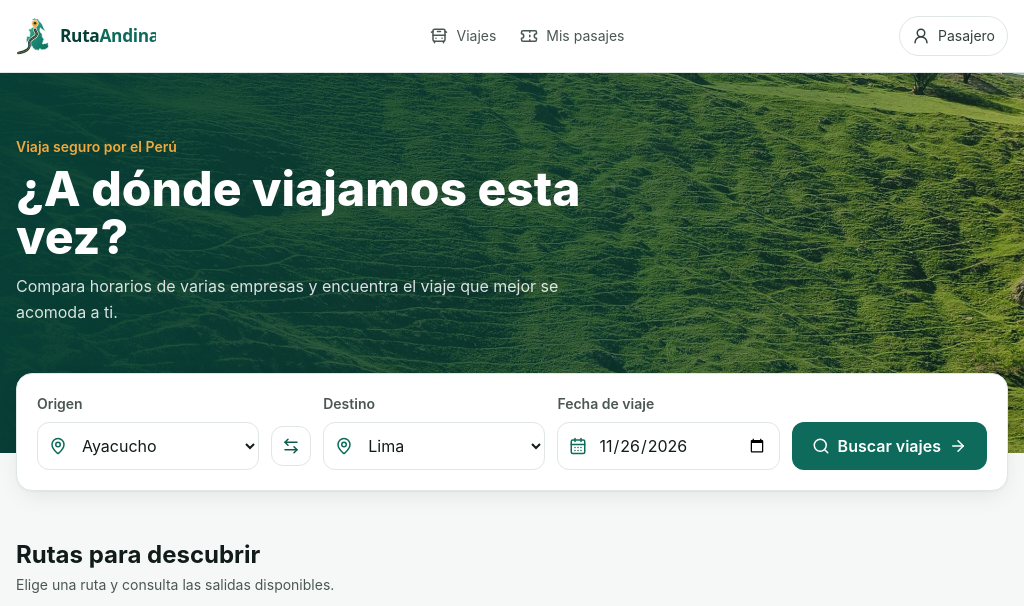
Test case: role routes and layouts › opens the passenger account menu and closes the in-memory session
Click the button "Pasajero" at (953, 36), box [899,16,1008,56]
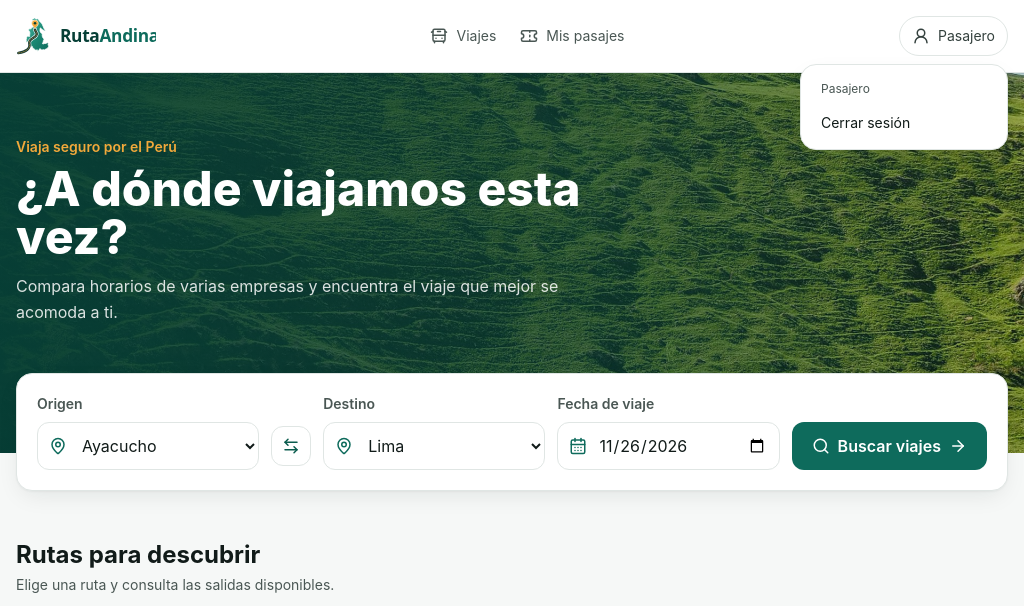
Check: the menu item "Cerrar sesión" is shown
Click the menu item "Cerrar sesión" at (904, 123), box [809,105,999,141]
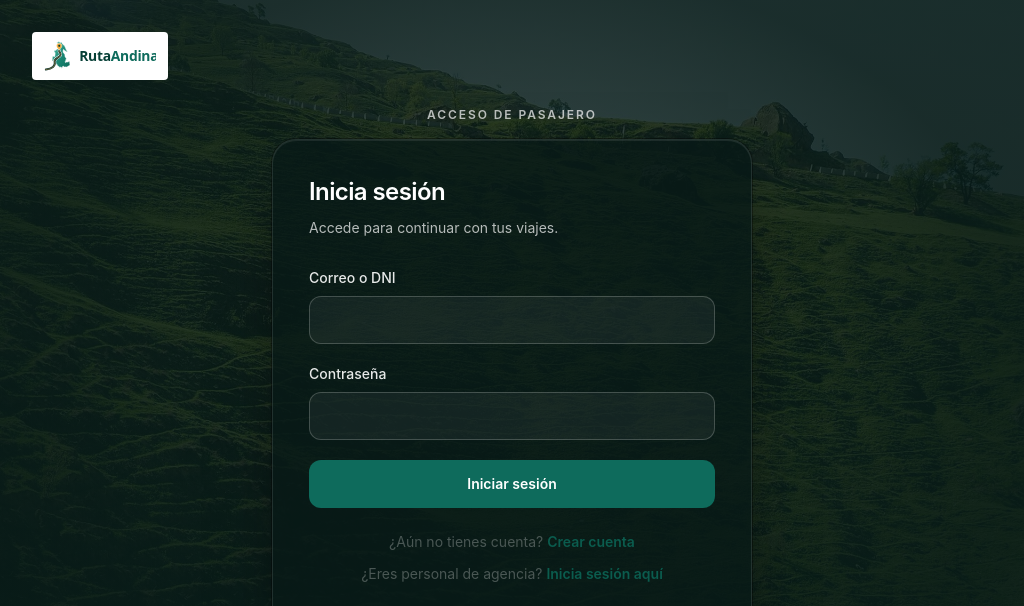
Check: the heading "Inicia sesión" is shown, box [309,177,445,206]
